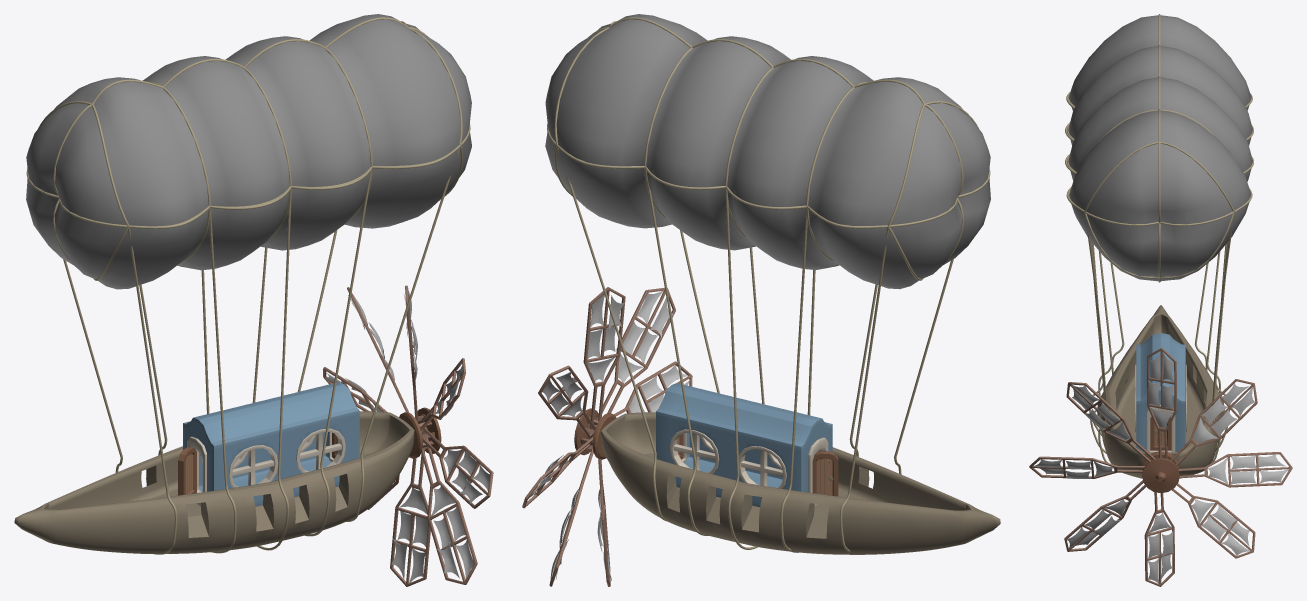
File: CloudShip.glb
The picture shows the model from 3 angles, left to right: view 1: azimuth 30°, elevation 25°; view 2: azimuth 150°, elevation 25°; view 3: azimuth 270°, elevation 25°; orthographic projection. The views are drawn at different scales.
Parts seen in each view (by area): view 1: balloon flying ship_balloon flying ship_0, flying ship_flying ship_0, rope flying ship, cabin flying ship_cabin flying ship_0, window flying ship_window door flying ship_0, paddle flying ship012_sail flying ship_0, paddle flying ship013_paddle flying ship_0, paddle flying ship013_sail flying ship_0, paddle flying ship012_paddle flying ship_0, paddle flying ship014_paddle flying ship_0, paddle flying ship014_sail flying ship_0, Line017_door part 3 flying ship_0 (+1 smaller); view 2: balloon flying ship_balloon flying ship_0, flying ship_flying ship_0, rope flying ship, cabin flying ship_cabin flying ship_0, window flying ship_window door flying ship_0, paddle flying ship015_sail flying ship_0, paddle flying ship016_paddle flying ship_0, paddle flying ship015_paddle flying ship_0, paddle flying ship016_sail flying ship_0, paddle flying ship017_paddle flying ship_0, Line017_door part 3 flying ship_0, paddle flying ship014_sail flying ship_0 (+5 smaller); view 3: balloon flying ship_balloon flying ship_0, flying ship_flying ship_0, rope flying ship, cabin flying ship_cabin flying ship_0, paddle flying ship010_sail flying ship_0, paddle flying ship017_sail flying ship_0, paddle flying ship011_sail flying ship_0, Line017_door part 3 flying ship_0, paddle flying ship016_sail flying ship_0, paddle flying ship012_sail flying ship_0, paddle flying ship010_paddle flying ship_0, paddle flying ship017_paddle flying ship_0 (+10 smaller).
Boxes of the visible parts, x1,y1,x2,y2 form: balloon flying ship_balloon flying ship_0: (26,14,471,289); flying ship_flying ship_0: (14,411,414,553); rope flying ship: (26,17,470,554); cabin flying ship_cabin flying ship_0: (183,382,359,506); window flying ship_window door flying ship_0: (200,428,345,487); paddle flying ship012_sail flying ship_0: (391,487,428,583); paddle flying ship013_paddle flying ship_0: (421,438,477,584); paddle flying ship013_sail flying ship_0: (431,486,473,579); paddle flying ship012_paddle flying ship_0: (390,442,431,586); paddle flying ship014_paddle flying ship_0: (422,428,493,508); paddle flying ship014_sail flying ship_0: (443,449,489,503); Line017_door part 3 flying ship_0: (399,407,441,458); balloon flying ship_balloon flying ship_0: (545,14,990,289); flying ship_flying ship_0: (601,412,1000,554); rope flying ship: (547,17,990,552); cabin flying ship_cabin flying ship_0: (656,383,832,507); window flying ship_window door flying ship_0: (670,429,786,488); paddle flying ship015_sail flying ship_0: (618,290,673,382); paddle flying ship016_paddle flying ship_0: (583,287,625,429); paddle flying ship015_paddle flying ship_0: (595,288,675,420); paddle flying ship016_sail flying ship_0: (587,294,624,381); paddle flying ship017_paddle flying ship_0: (538,365,595,438); Line017_door part 3 flying ship_0: (574,408,616,459); paddle flying ship014_sail flying ship_0: (629,365,690,412); balloon flying ship_balloon flying ship_0: (1068,15,1252,281); flying ship_flying ship_0: (1097,305,1224,478); rope flying ship: (1065,14,1253,468); cabin flying ship_cabin flying ship_0: (1136,333,1185,452); paddle flying ship010_sail flying ship_0: (1208,454,1289,484); paddle flying ship017_sail flying ship_0: (1193,383,1254,444); paddle flying ship011_sail flying ship_0: (1191,499,1250,555); Line017_door part 3 flying ship_0: (1142,451,1179,493); paddle flying ship016_sail flying ship_0: (1148,351,1173,428); paddle flying ship012_sail flying ship_0: (1148,512,1173,584); paddle flying ship010_paddle flying ship_0: (1178,452,1292,487); paddle flying ship017_paddle flying ship_0: (1170,379,1257,465).
Size of the model in its own units: 0.8093 by 1.02 by 0.5317.
